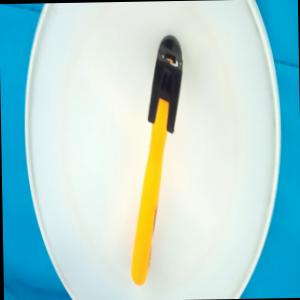martelo: (125, 32, 186, 286)
